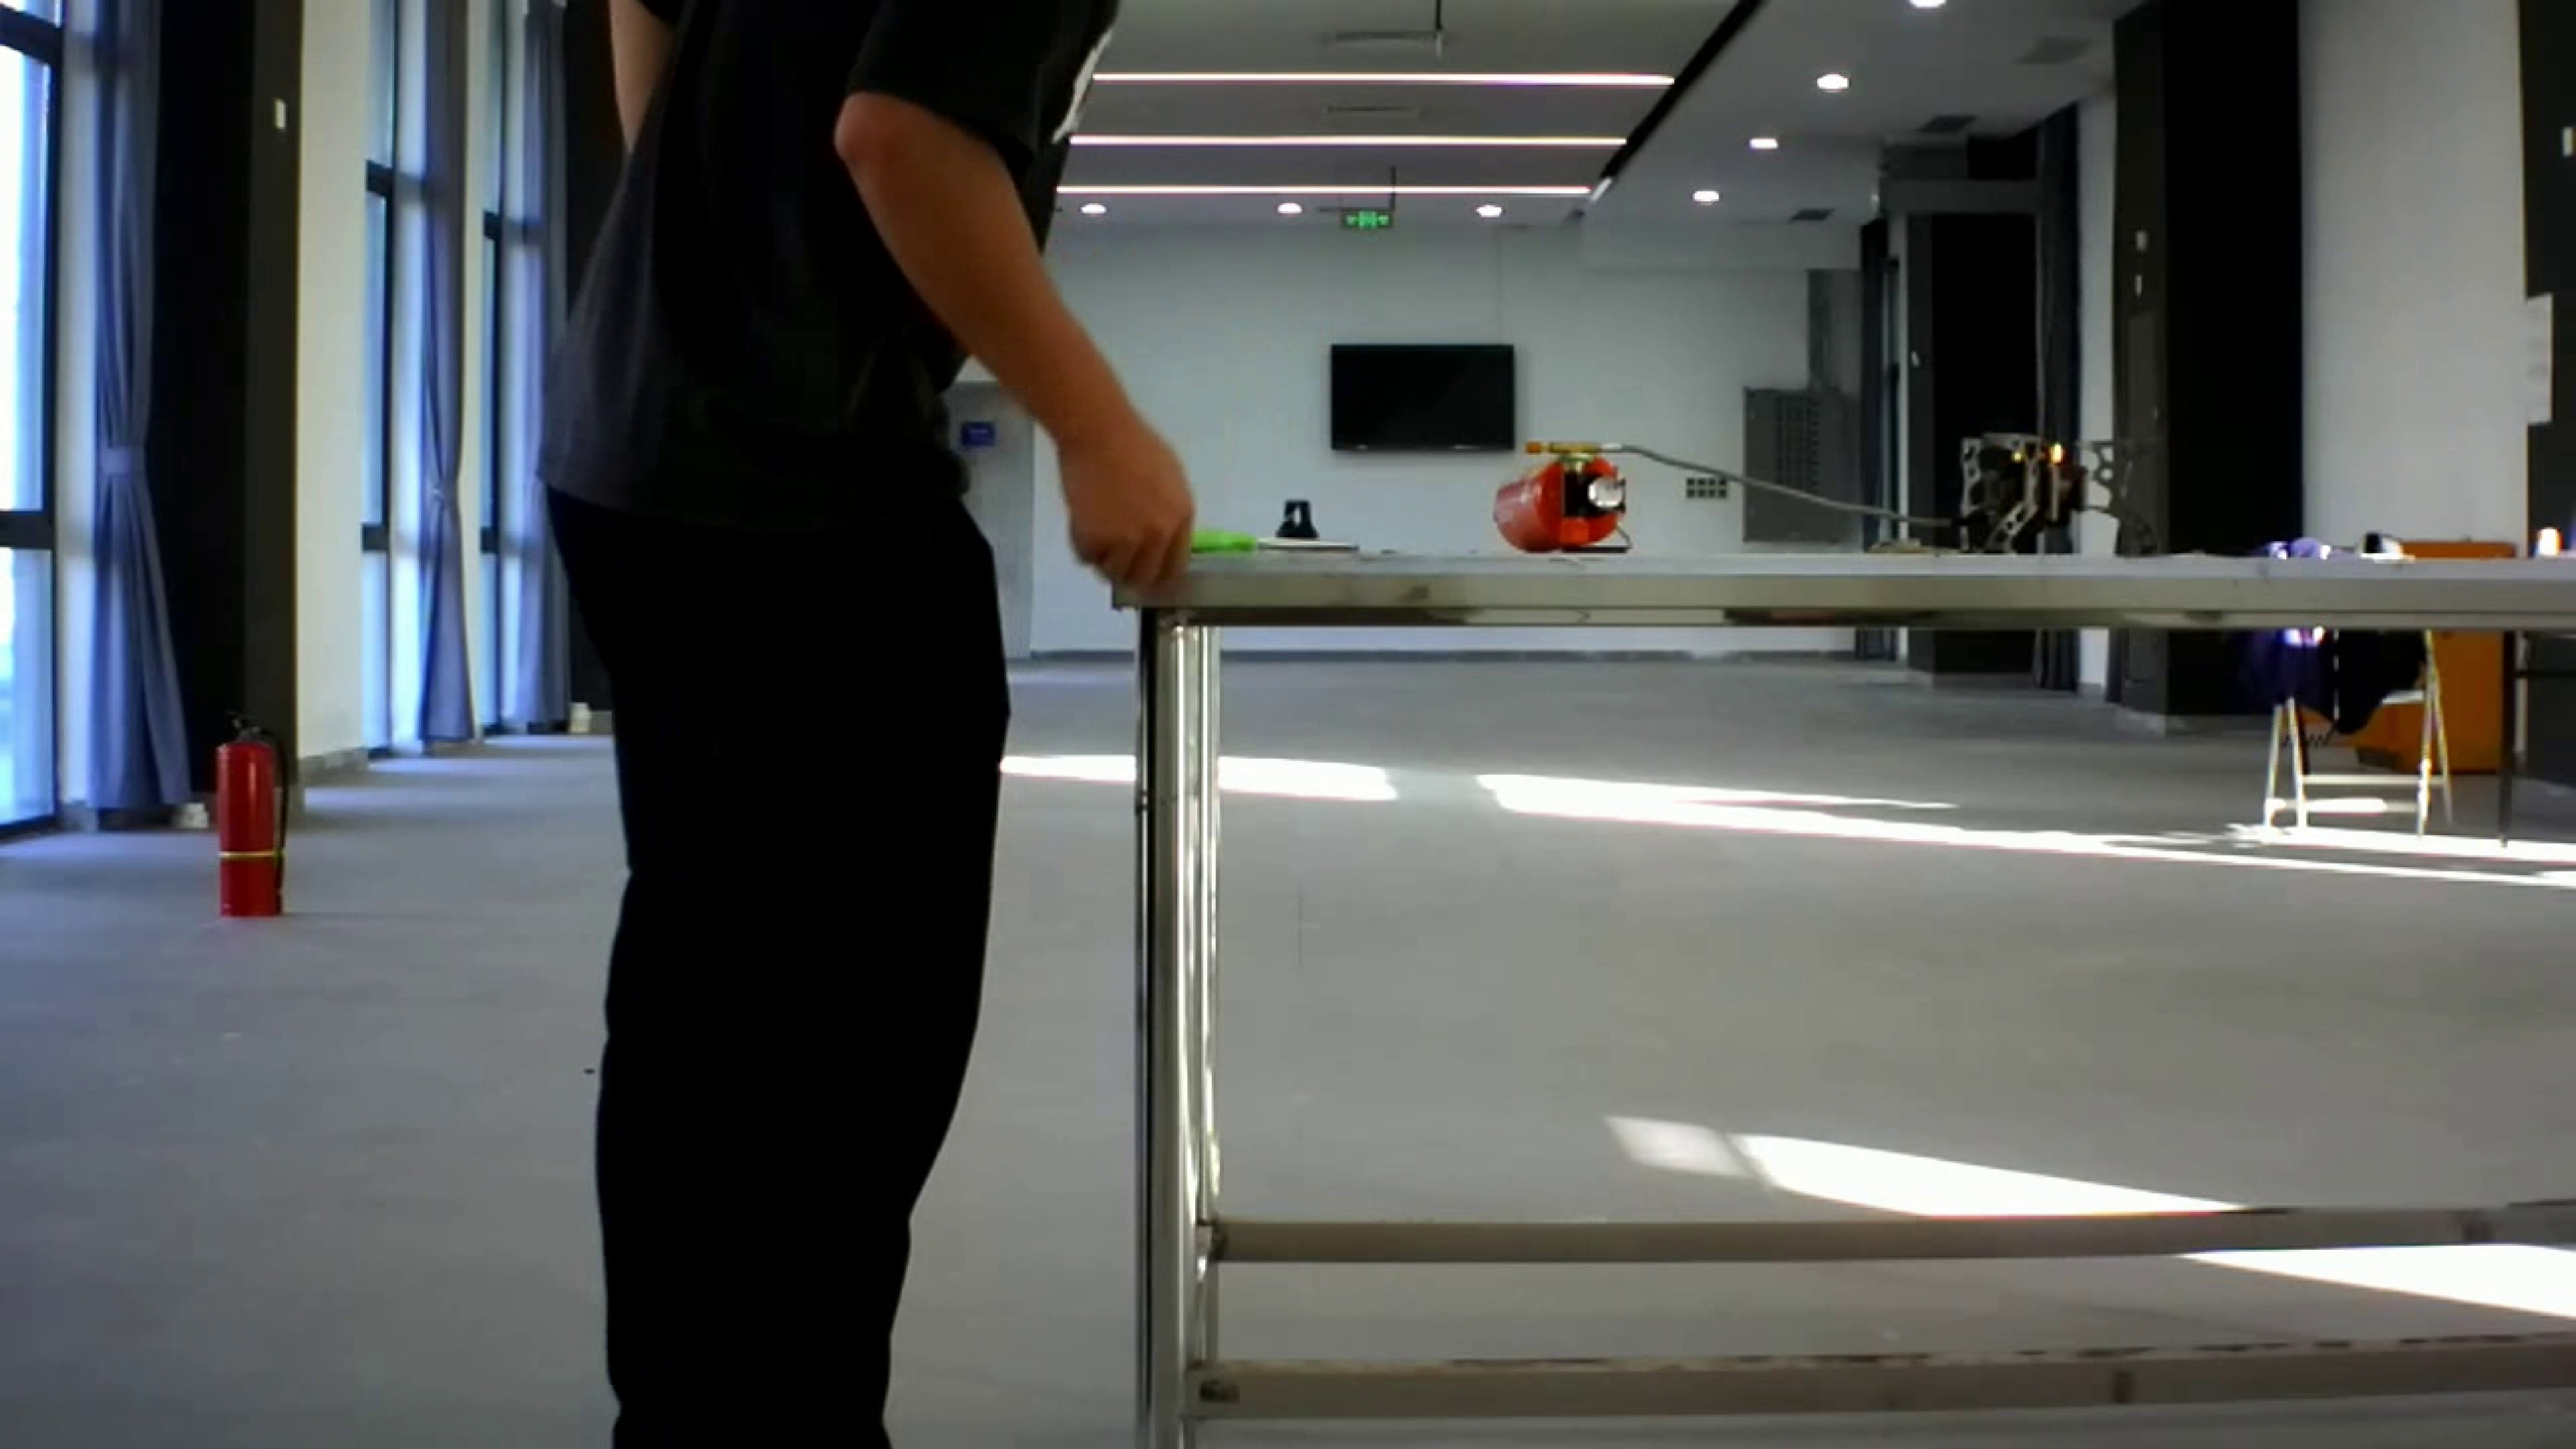Fire: (1994, 407, 2091, 485)
